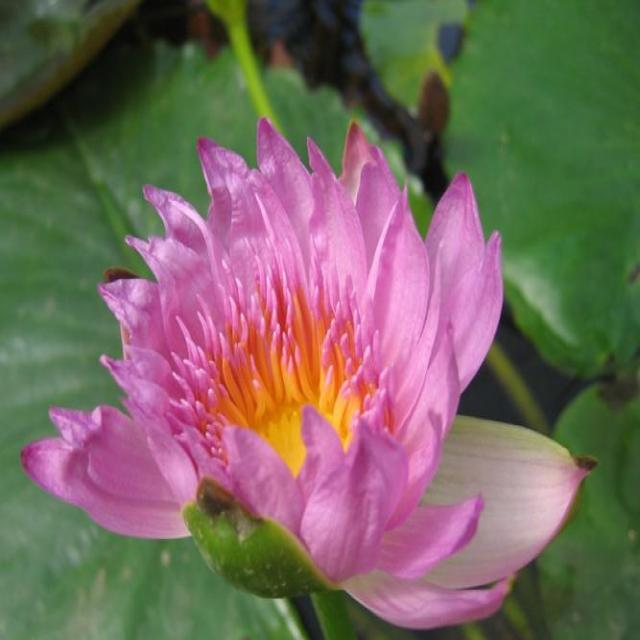water-lily: (11, 101, 608, 640)
